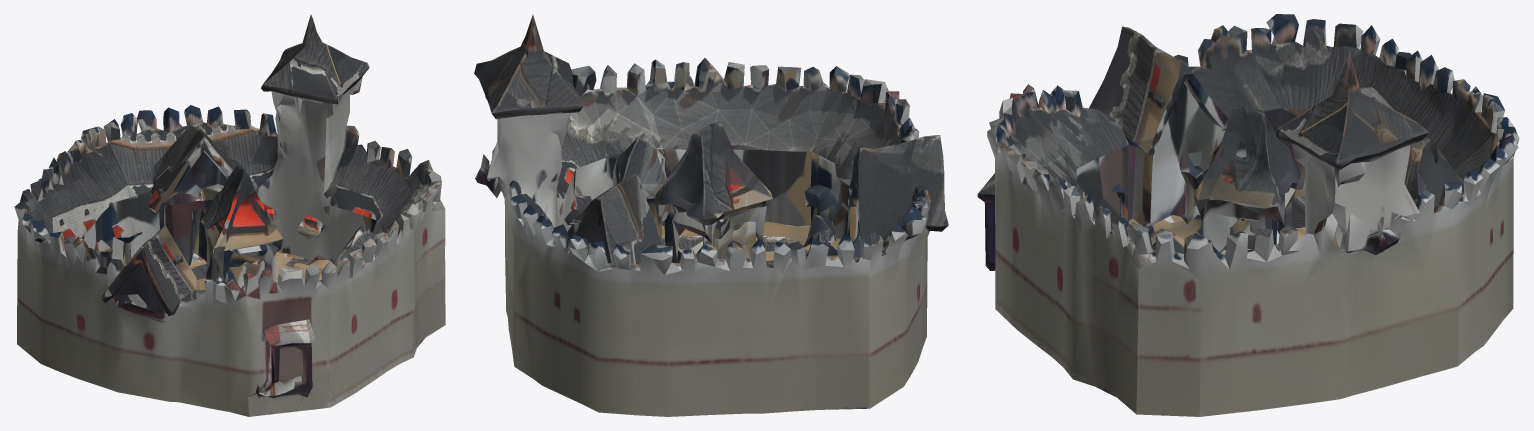
Rendered from ayutthaya_fortaleza.glb.
3 renders of one model, left to right at view 1: azimuth 30°, elevation 25°; view 2: azimuth 150°, elevation 25°; view 3: azimuth 270°, elevation 25°, orthographic. The views are drawn at different scales.
Parts seen in each view (by area): view 1: geometry_0; view 2: geometry_0; view 3: geometry_0.
Boxes of the visible parts, left/top/right/bottom form: geometry_0: left=14, top=14, right=445, bottom=416; geometry_0: left=474, top=15, right=948, bottom=416; geometry_0: left=977, top=14, right=1519, bottom=416.
Bounding box in the file's own units: 3.36 × 2.3 × 3.4.
1 material, 1 textured.
